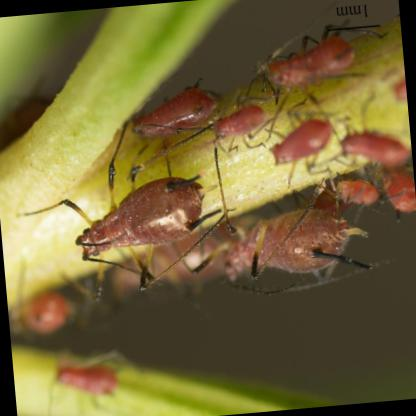uroleucon compositae: (62, 164, 222, 291), (129, 81, 224, 176)
